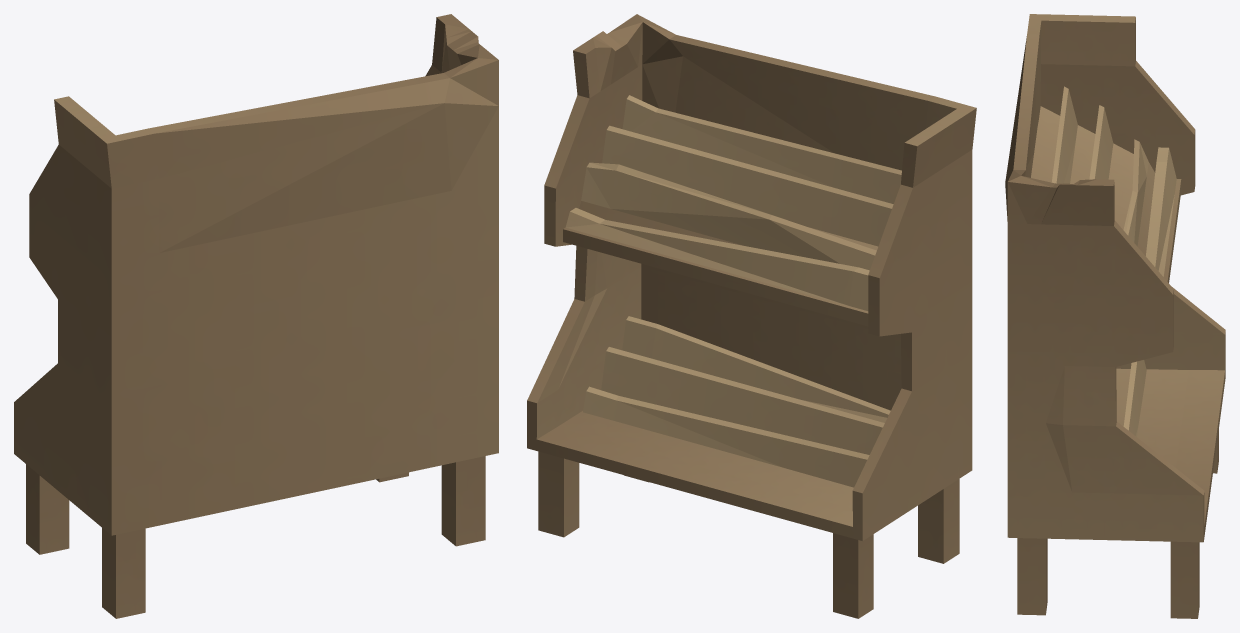
File: leaflet_holder_2.obj
The picture shows the model from 3 angles, left to right: view 1: azimuth 30°, elevation 25°; view 2: azimuth 150°, elevation 25°; view 3: azimuth 270°, elevation 25°; orthographic projection. The views are drawn at different scales.
Parts seen in each view (by area): view 1: leaflet_holder_2_Mesh; view 2: leaflet_holder_2_Mesh; view 3: leaflet_holder_2_Mesh.
Boxes of the visible parts, bbox=[...] form: leaflet_holder_2_Mesh: bbox=[14, 14, 498, 618]; leaflet_holder_2_Mesh: bbox=[527, 14, 976, 618]; leaflet_holder_2_Mesh: bbox=[1005, 14, 1225, 618].
Size of the model in its own units: 0.8513 by 1.01 by 0.4599.
